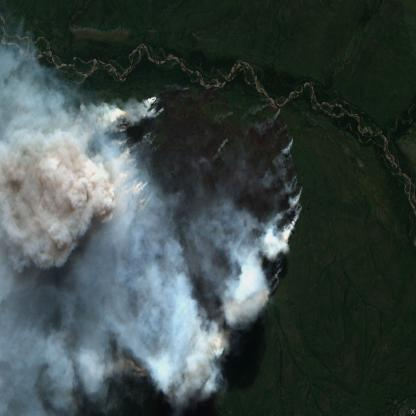fire: (58, 83, 307, 382)
